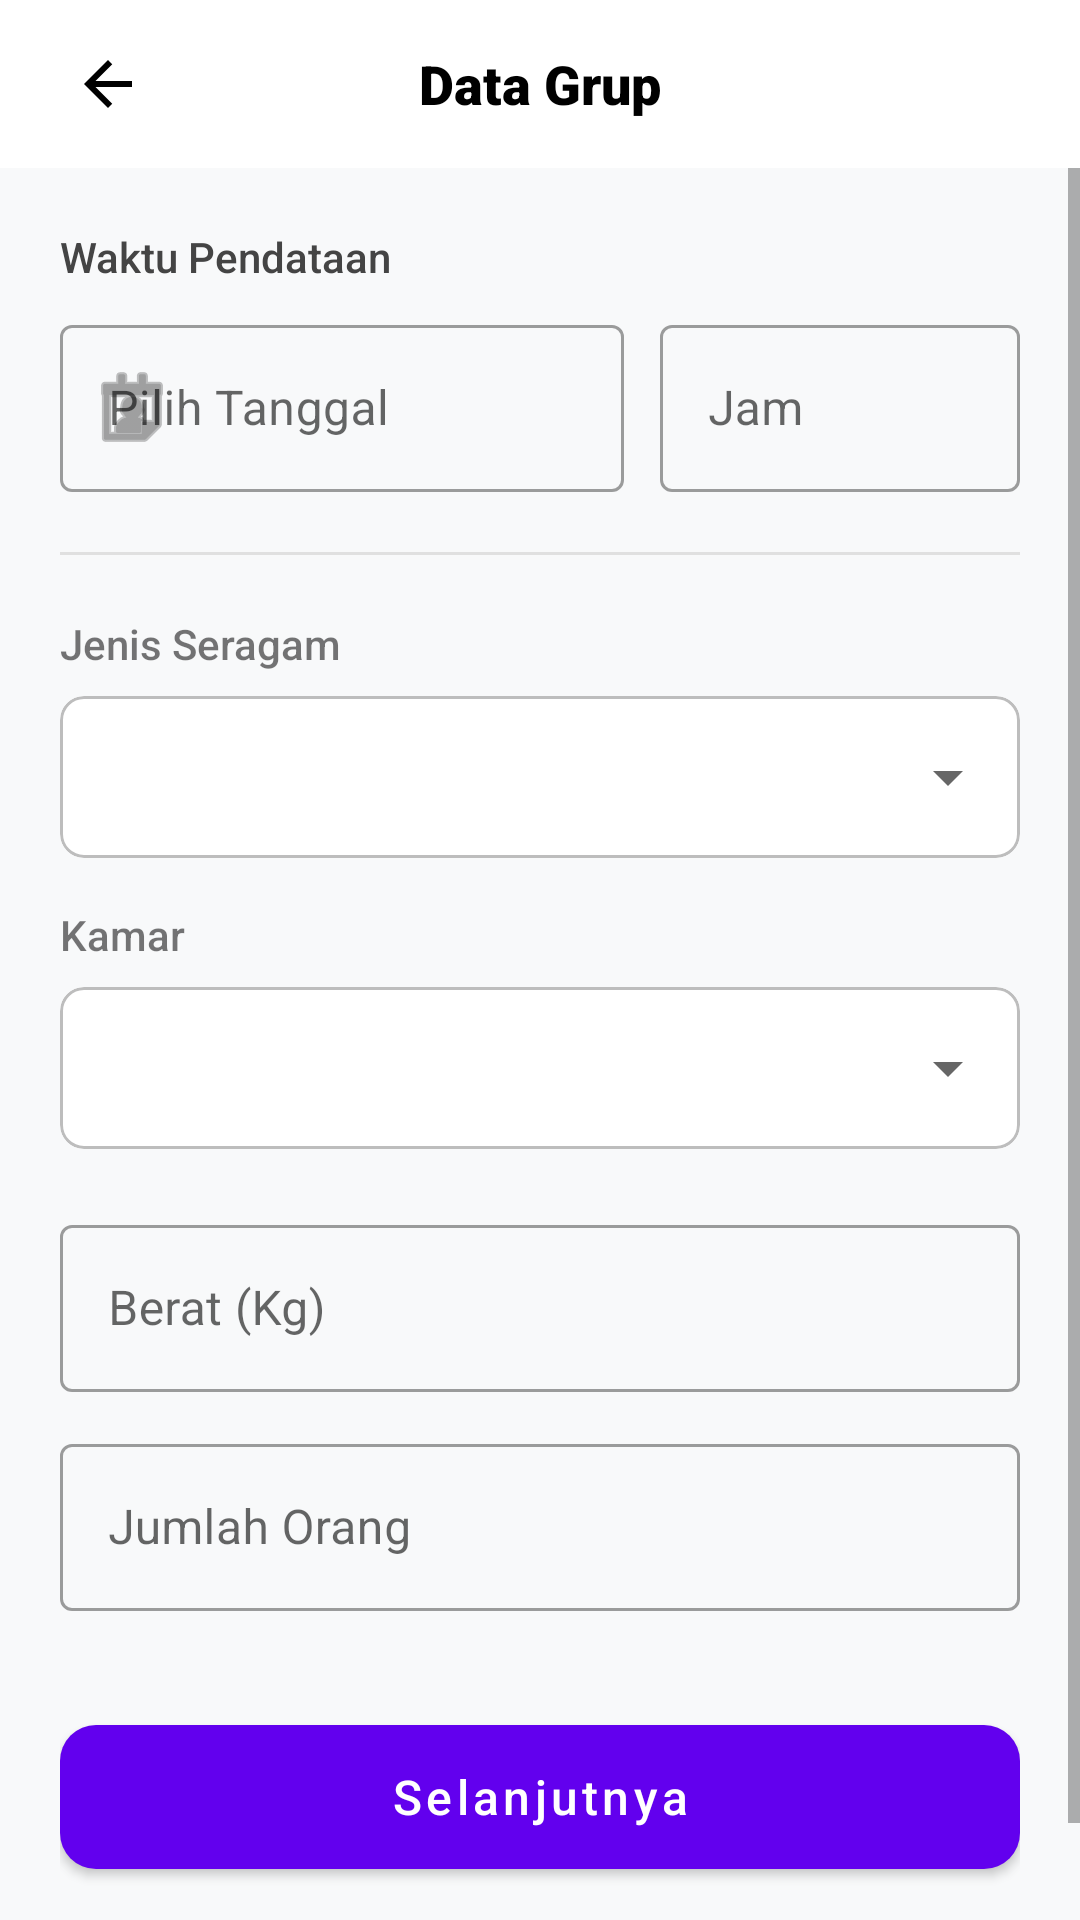

Icons on this 1080w x 1920h Android screen, each with its box as box(x1, y1, x2, y2):
back: box(84, 60, 132, 108)
